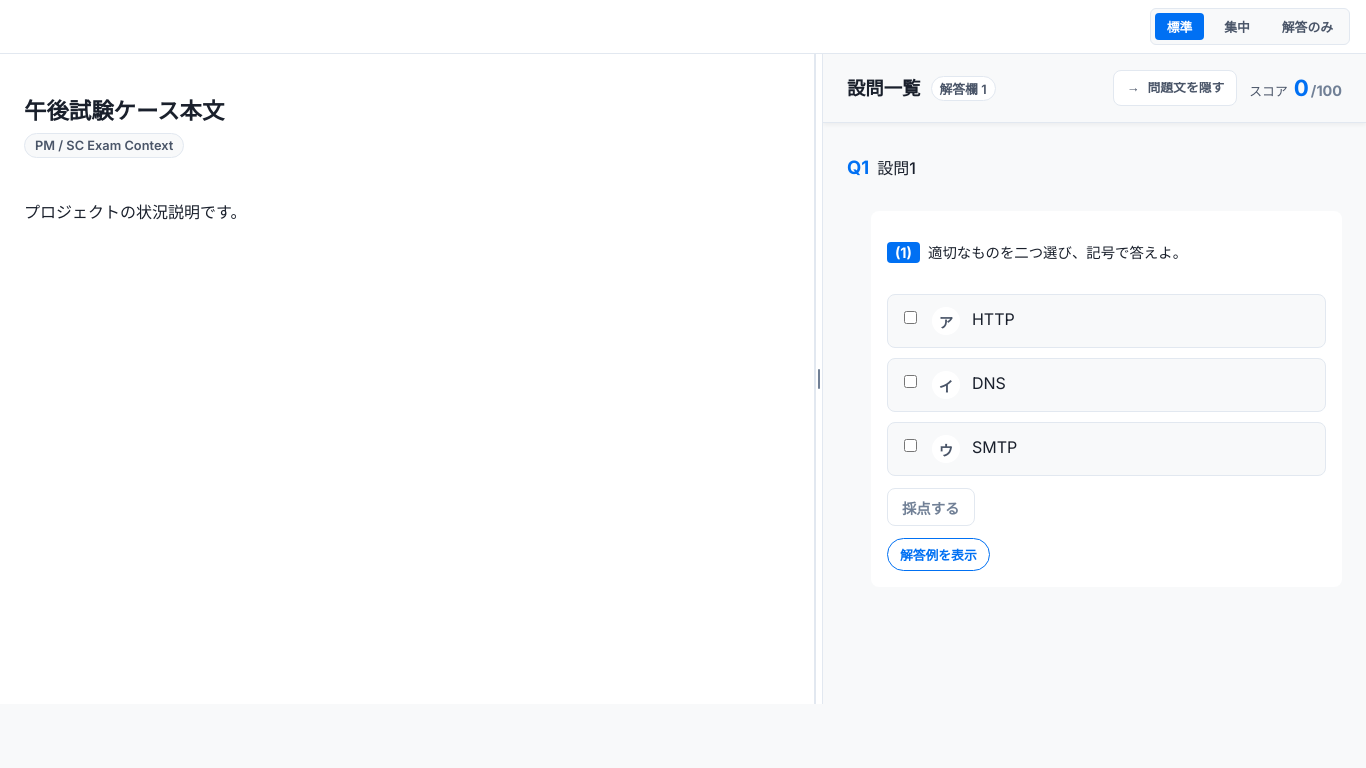
Test: SCPMExamView › 午後の複数選択式はチェックボックスで採点する
Step 1. Click the checkbox labelled "ア HTTP" → (910, 317), box [904, 311, 917, 324]
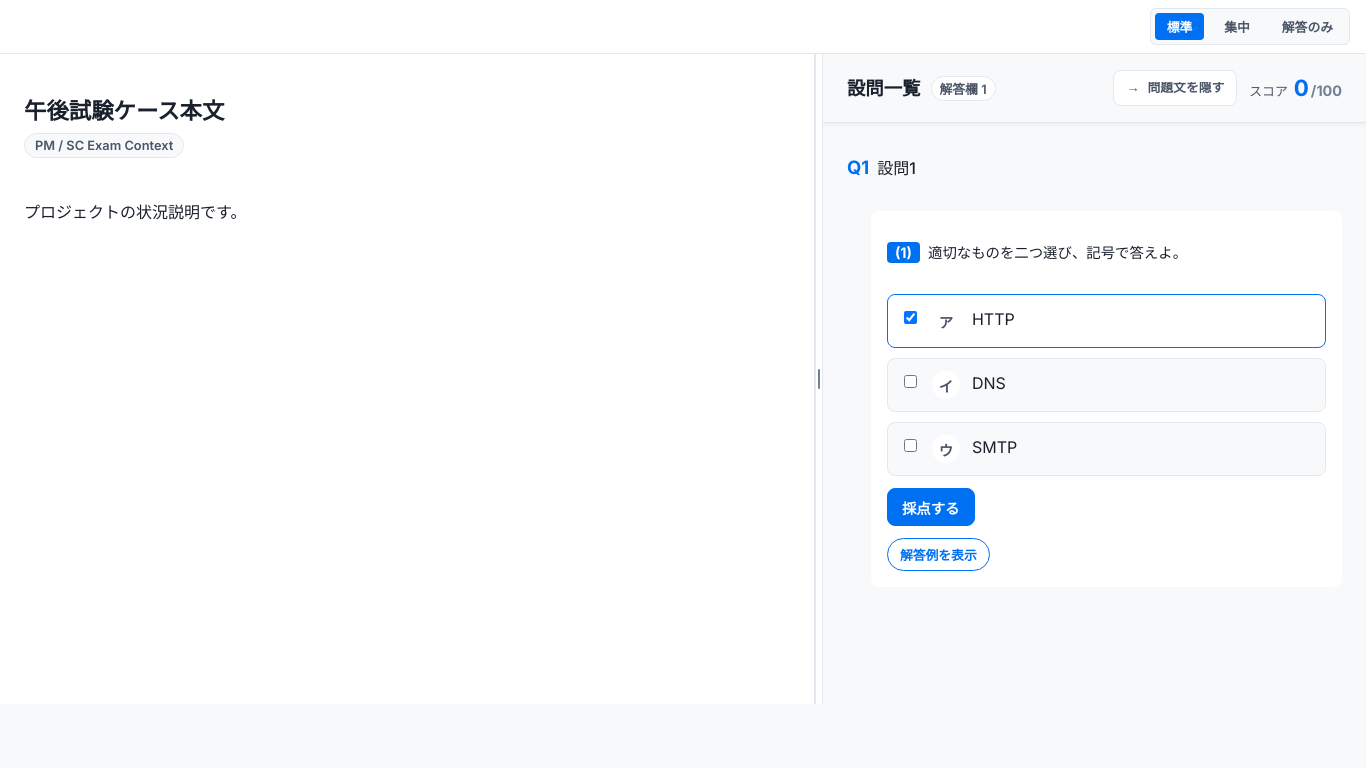
Step 2. Click the checkbox labelled "ウ SMTP" → (910, 445), box [904, 439, 917, 452]
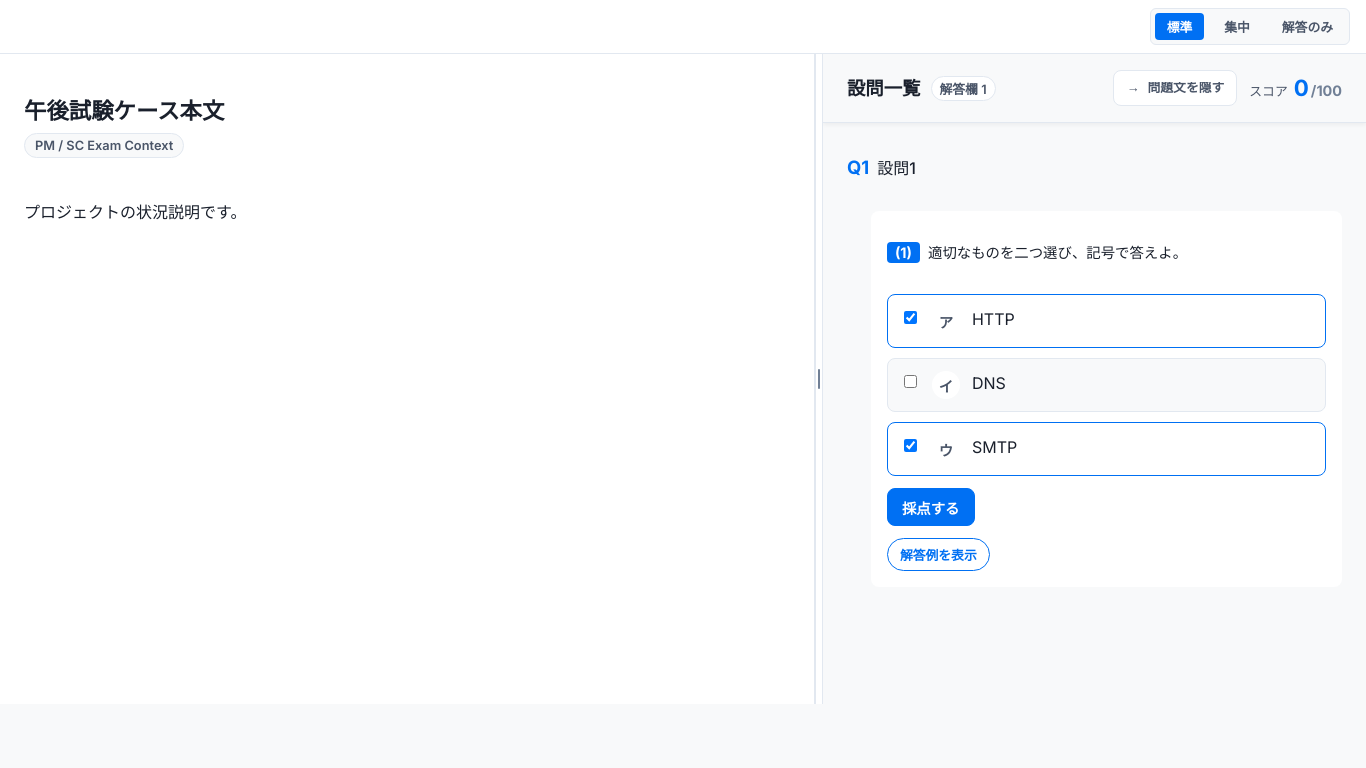
Step 3. Click the button "採点する" → (931, 507), box [887, 488, 974, 526]
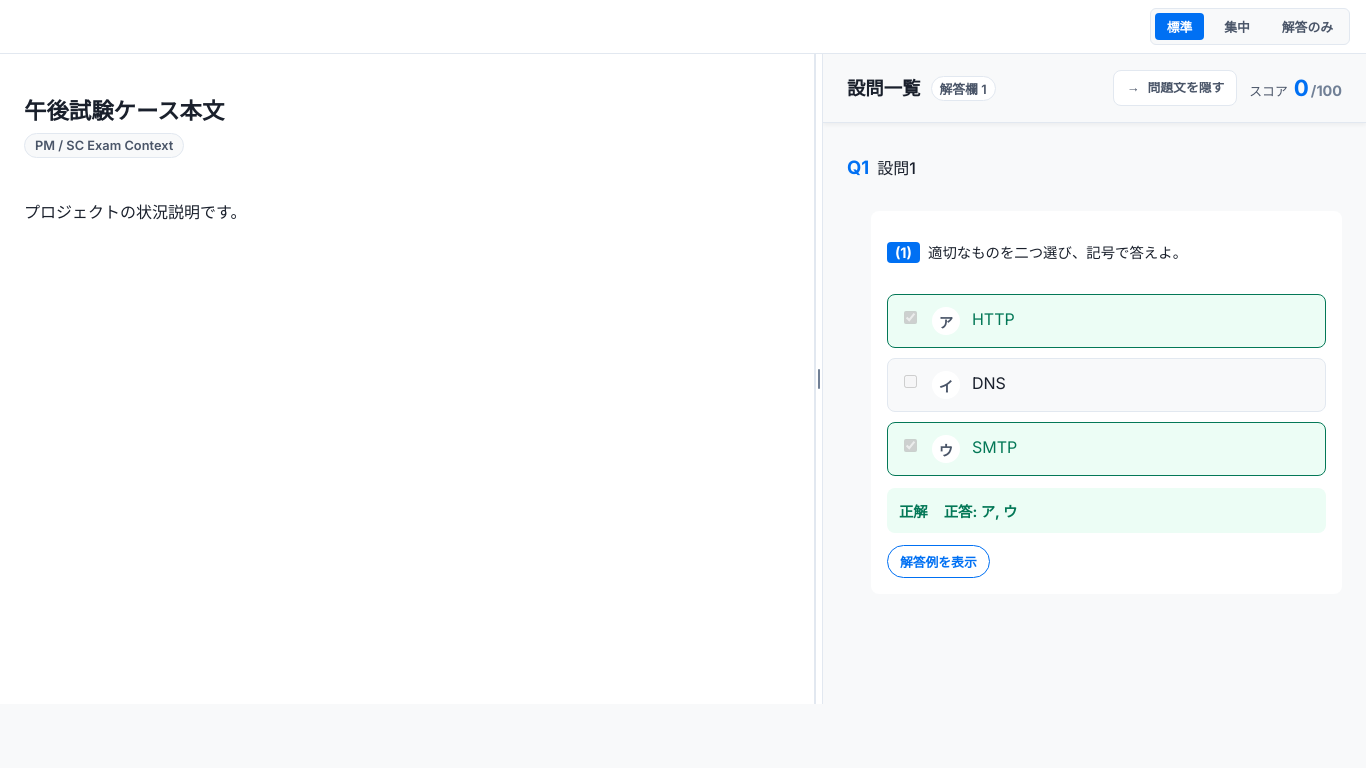
Expected: the text "正解" is shown, [899, 500, 928, 521]
